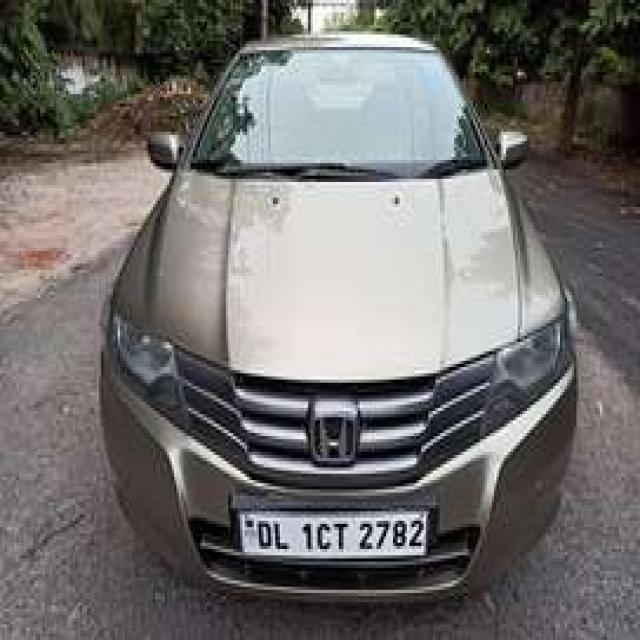Plate: (239, 506, 425, 553)
